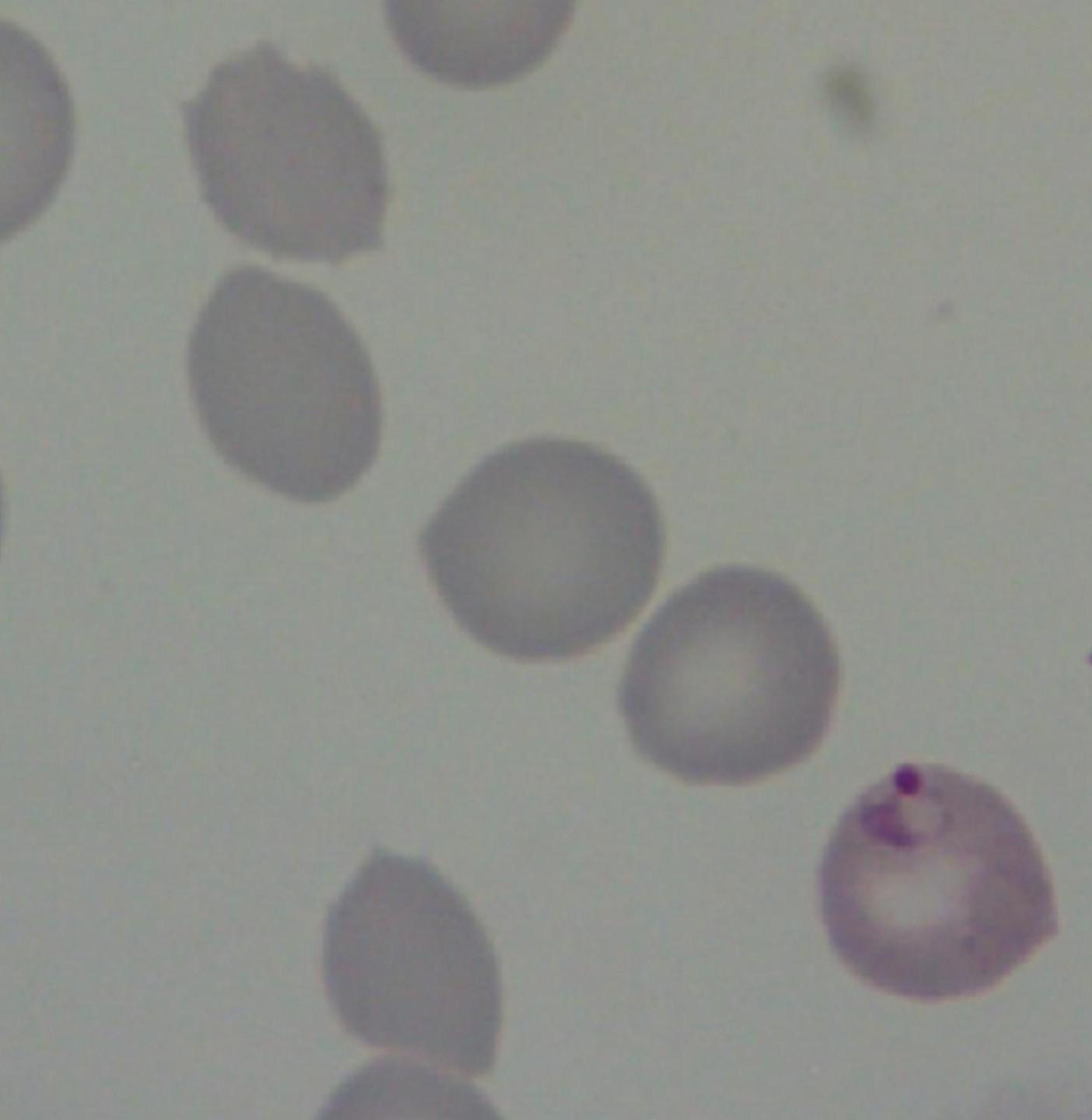Infected: (818, 766, 1063, 1006)
Uninfected: (420, 436, 660, 666), (187, 265, 382, 506), (622, 566, 837, 779), (185, 47, 390, 265), (324, 850, 503, 1078)
